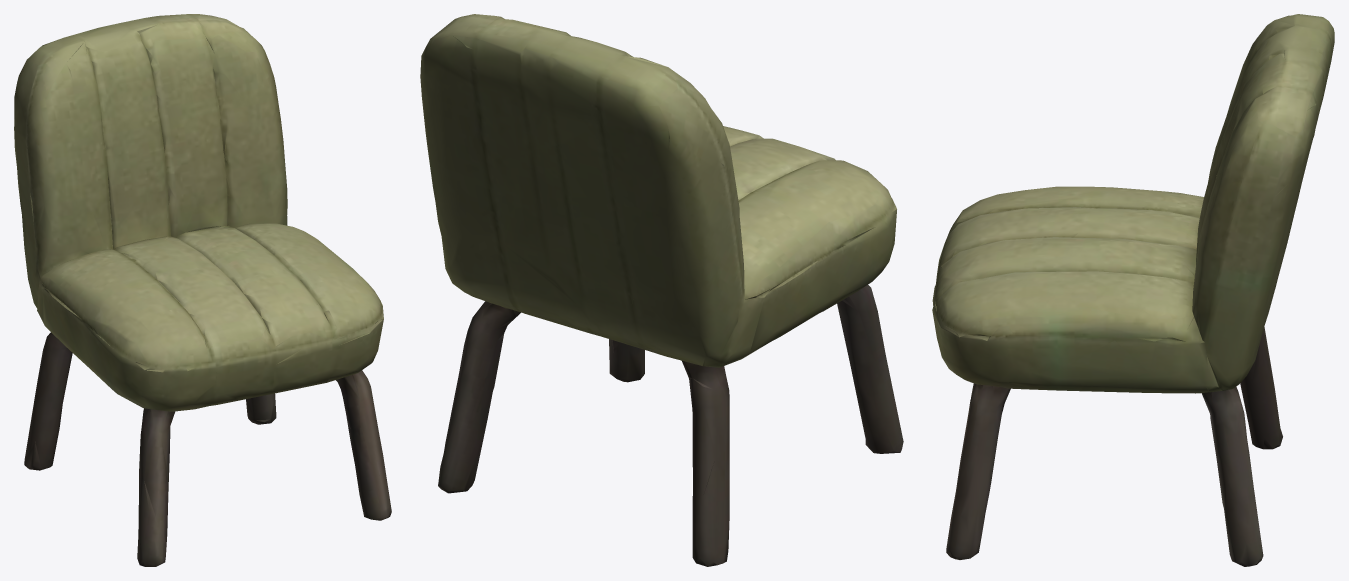
The model's file is chair23.glb.
3 views of the same model, side by side, from view 1: azimuth 30°, elevation 25°; view 2: azimuth 150°, elevation 25°; view 3: azimuth 270°, elevation 25° (orthographic). The views are drawn at different scales.
Bounding box in the file's own units: 0.1577 × 0.235 × 0.1888.
1 material, 1 textured.
